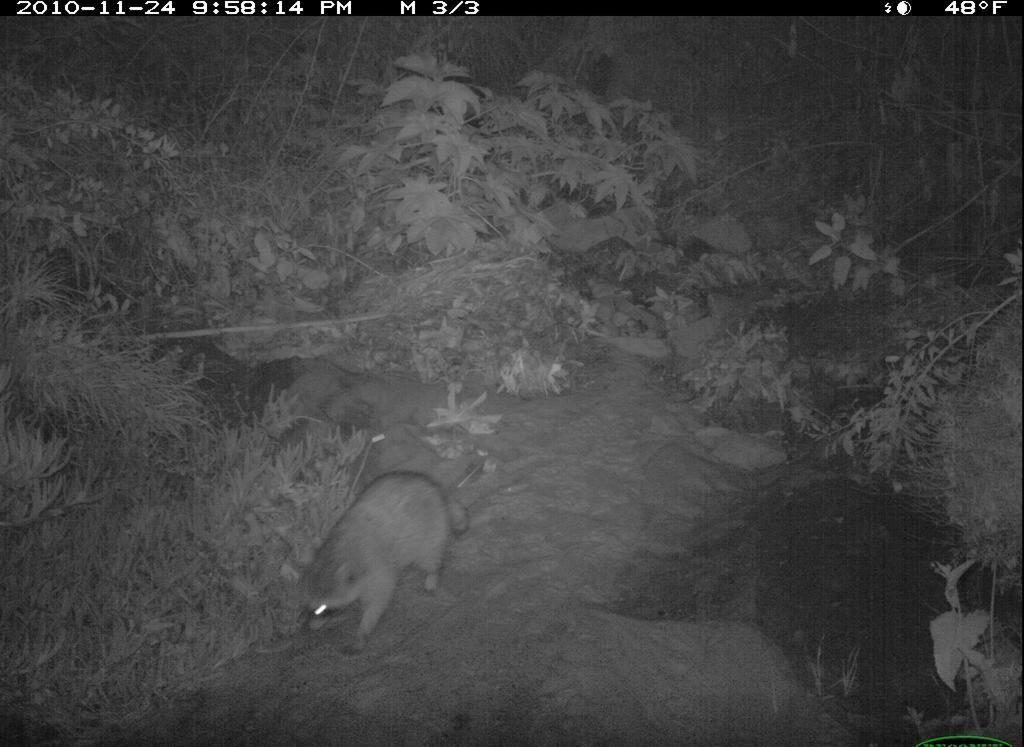raccoon: (299, 466, 472, 649)
